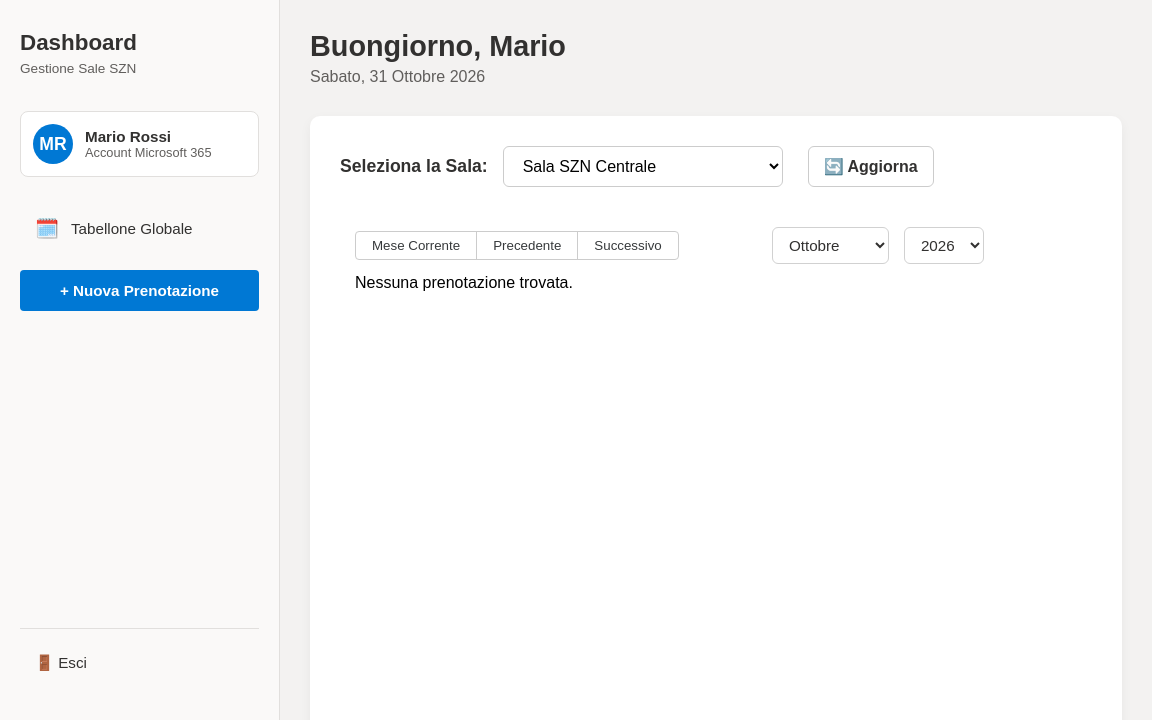
it: API Error Handling & Resilience Tests › UI Visual Error Handling in App Component › dovrebbe mostrare Toast di errore quando il salvataggio prenotazione fallisce con 409 Conflitto
Check: the button with class "btn-refresh" is shown, box [808,146,934,187]
Click the button with class "bottone-menu" showing "+ Nuova Prenotazione" at (140, 290), box [20,270,259,311]
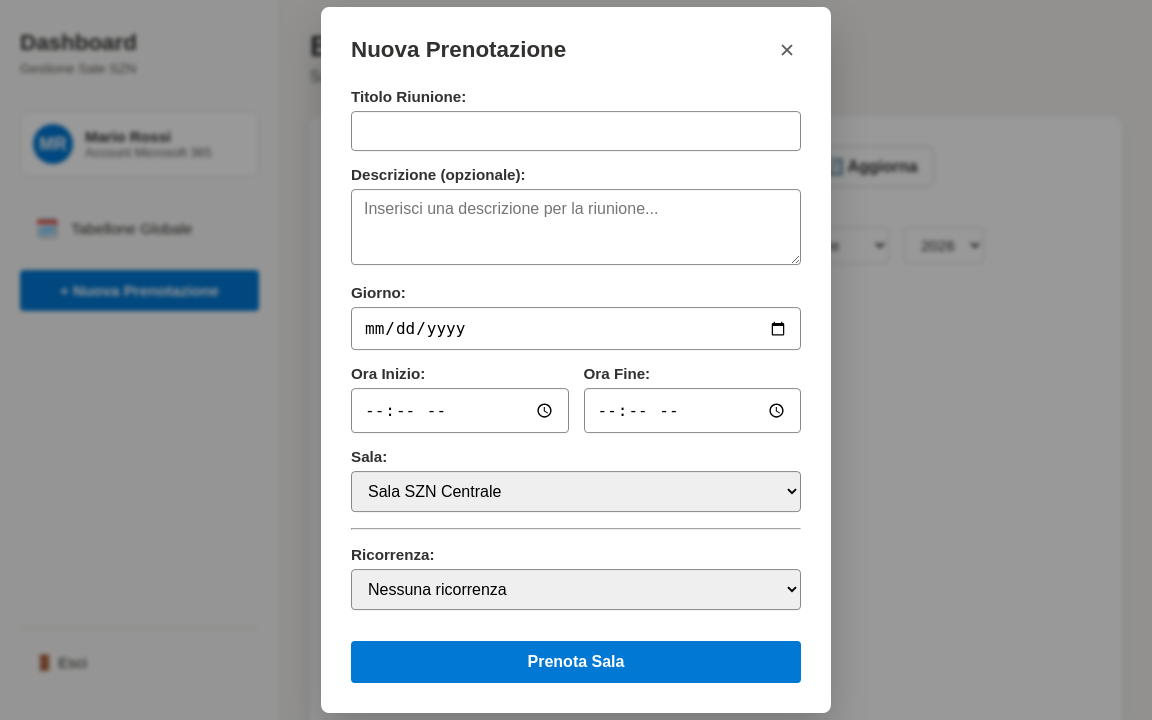
Type "Riunione Concorrente" into the 1st field with class "form-input" at (576, 131), box [351,111,801,151]
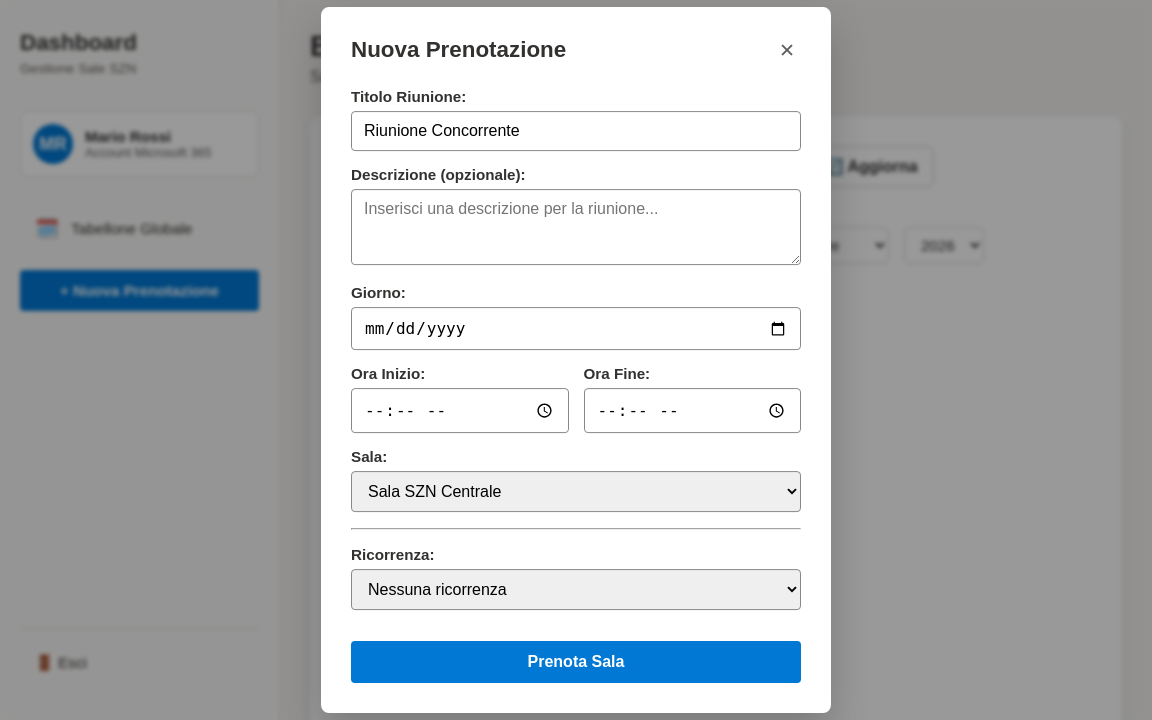
Type "2026-11-05" into the date field at (576, 329), box [351,307,801,350]
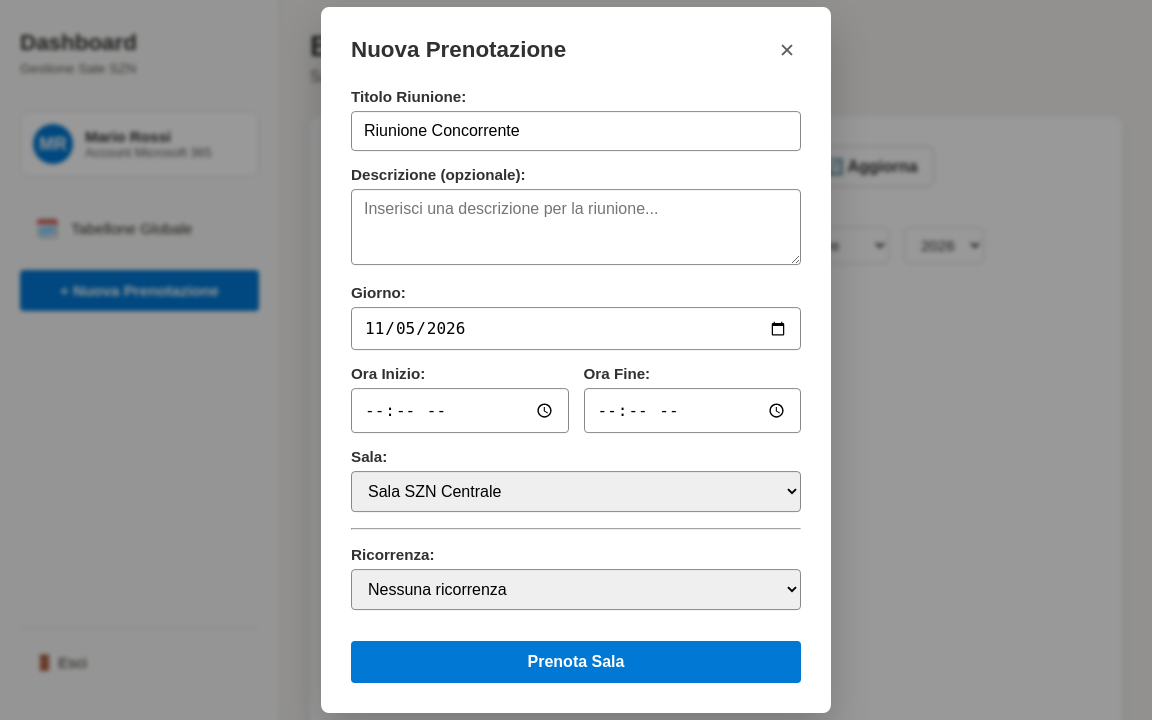
Type "10:00" into the time field below "Ora Inizio:" at (460, 410), box [351,388,568,433]
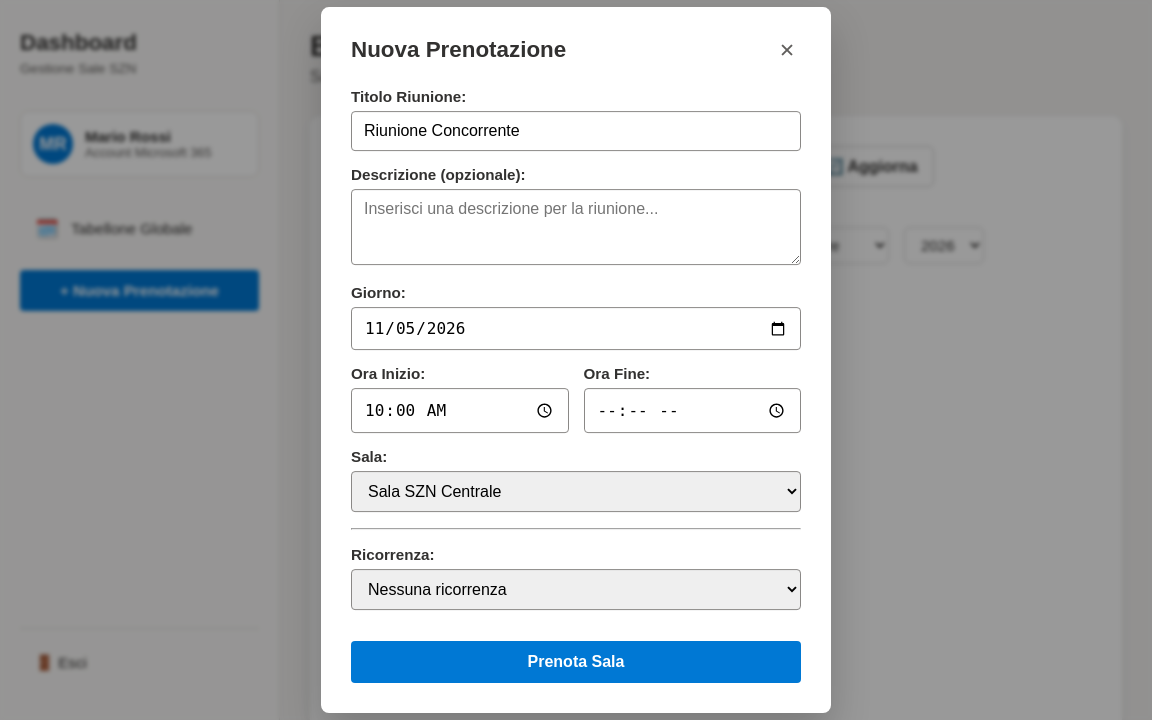
Type "11:00" into the time field below "Ora Fine:" at (692, 410), box [584,388,801,433]
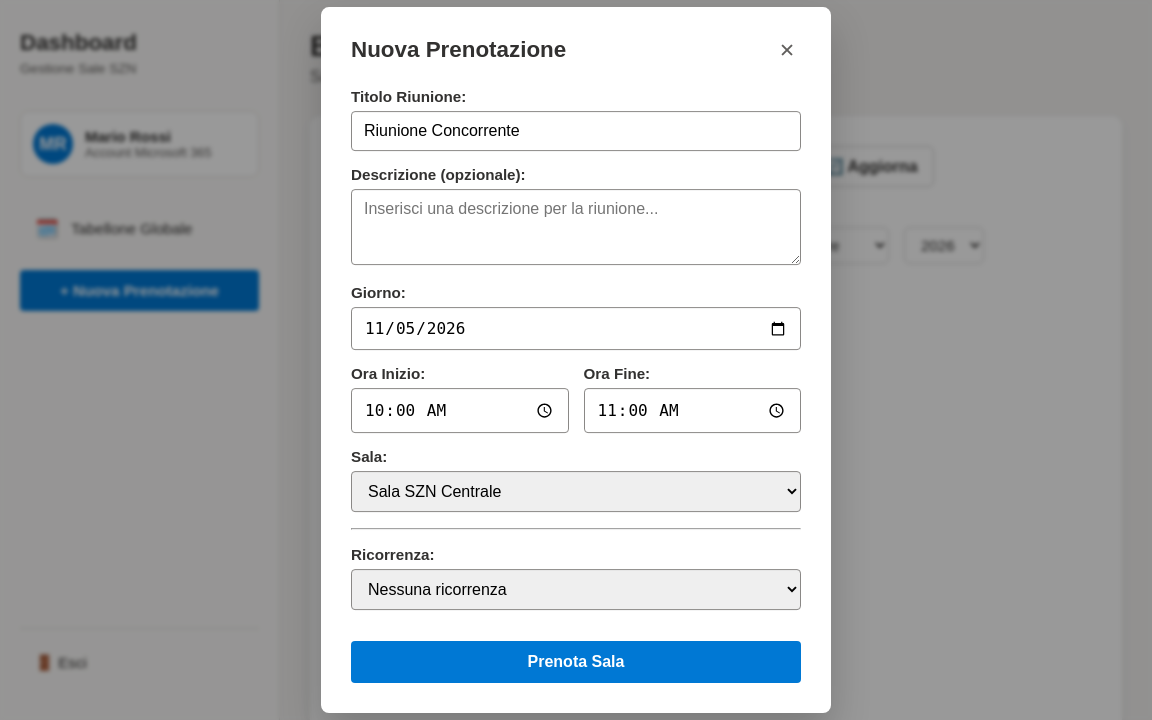
# Invia il form
Submit the form, box [351,88,801,683]
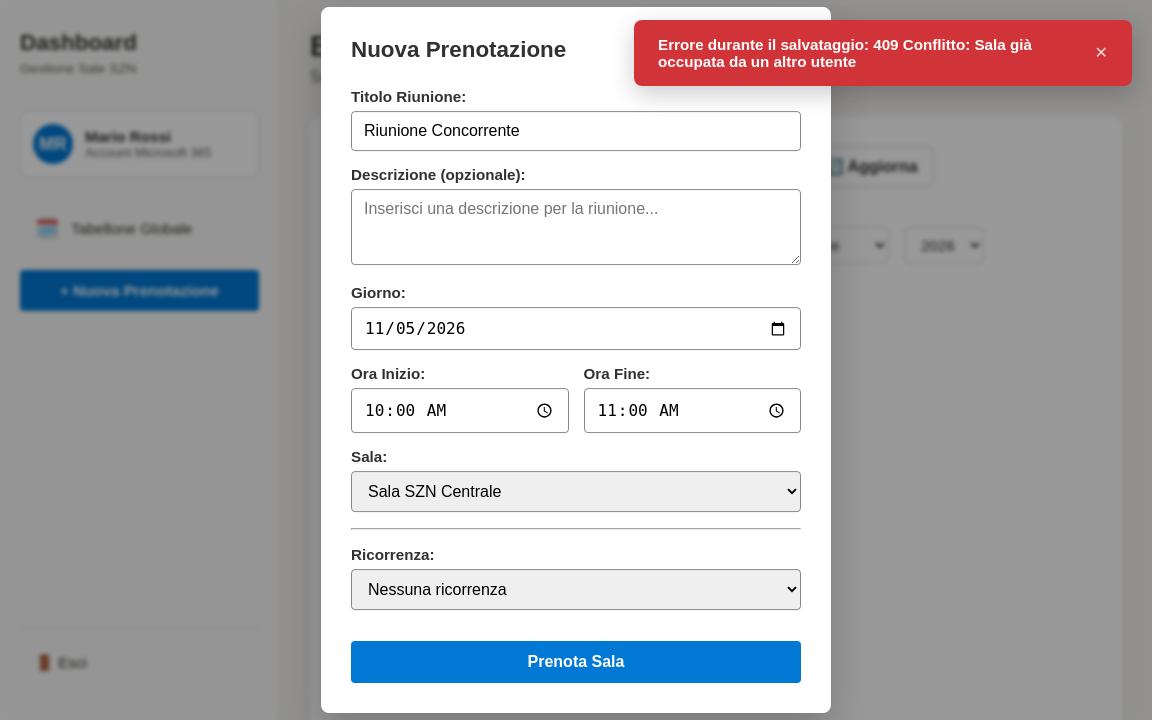
Check: the element with class "modal-content" is shown, box [321,7,831,713]
Check: the element with class "toast-error" is shown, box [634,20,1132,86]
Check: the element with class "toast-error" shows "Errore durante il salvataggio: 409 Conflitto", box [658,36,1032,70]
